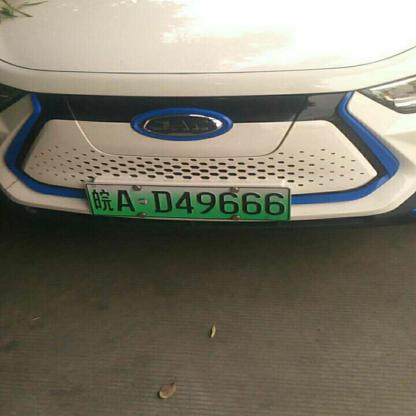lp: (83, 184, 290, 221)
